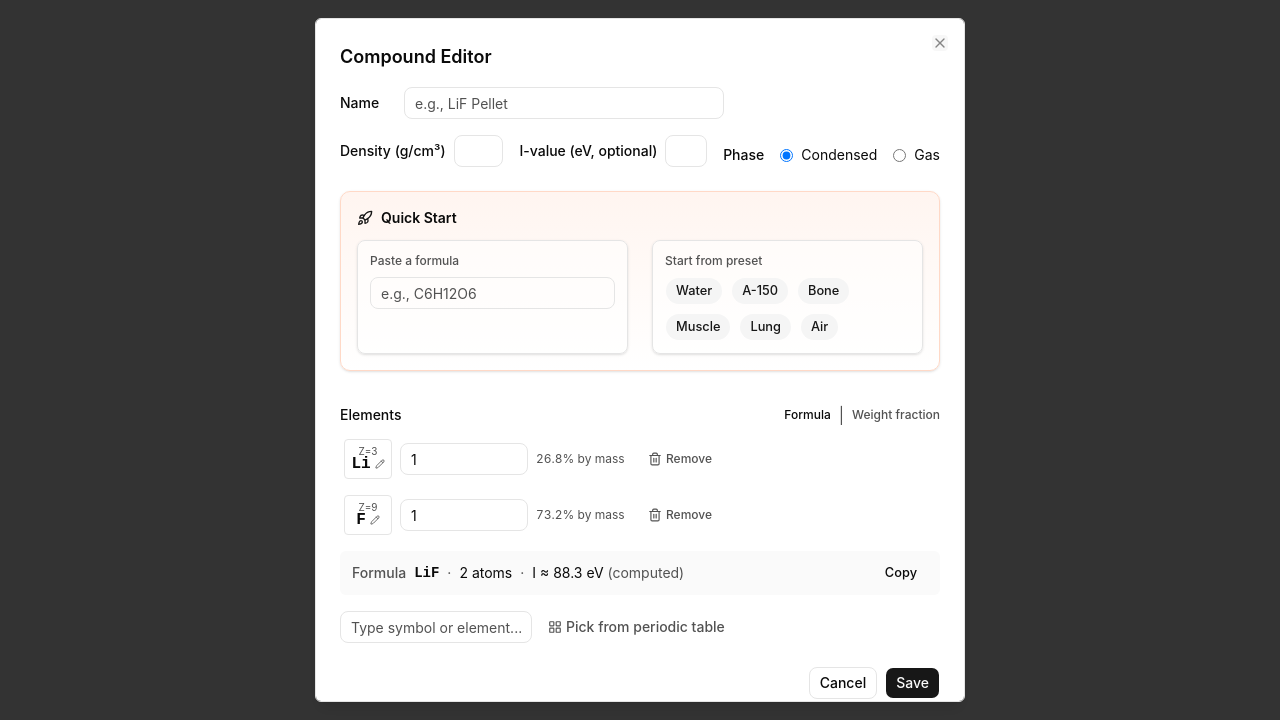
CompoundEditorModal — Save gating & derived UI › blocks Save and reveals the reason while the name is empty
Type "1.0" into the number field labelled "Density (g/cm³)" at (479, 151), box x1=454 y1=135 x2=504 y2=167
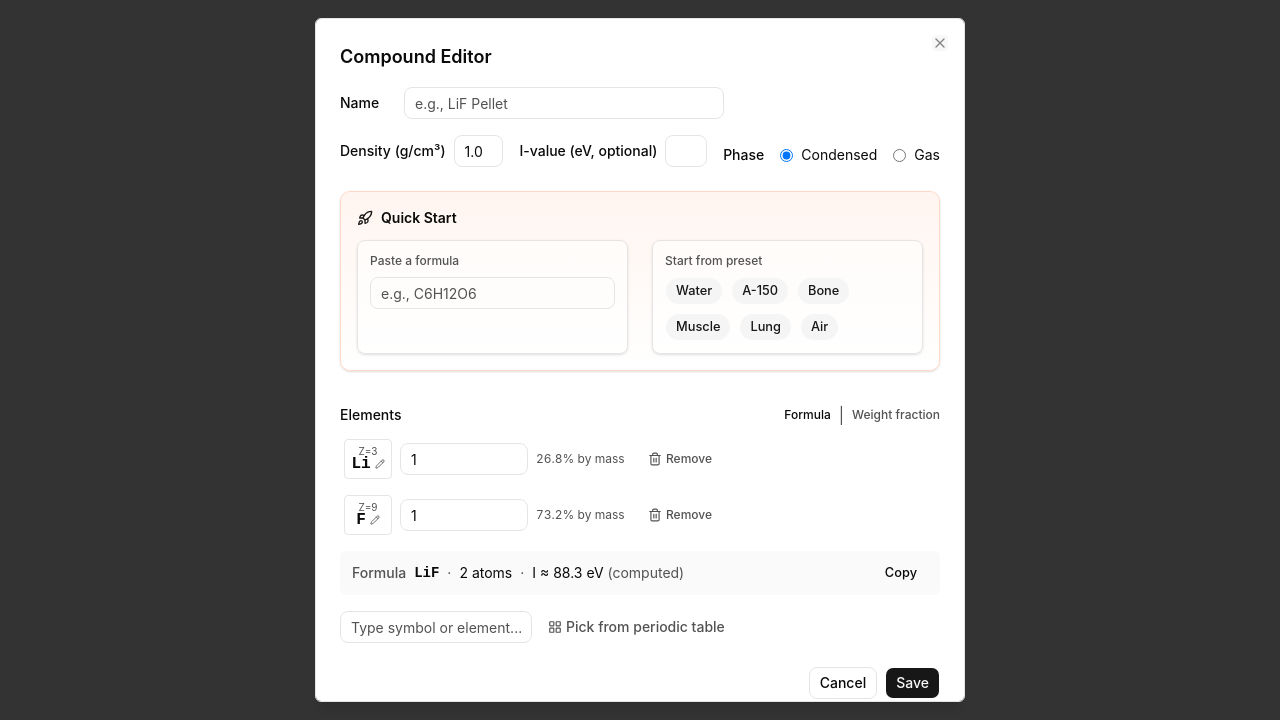
Expected: the text "name is required" is not shown
Click the button "Save" at (913, 683), box x1=885 y1=667 x2=940 y2=699
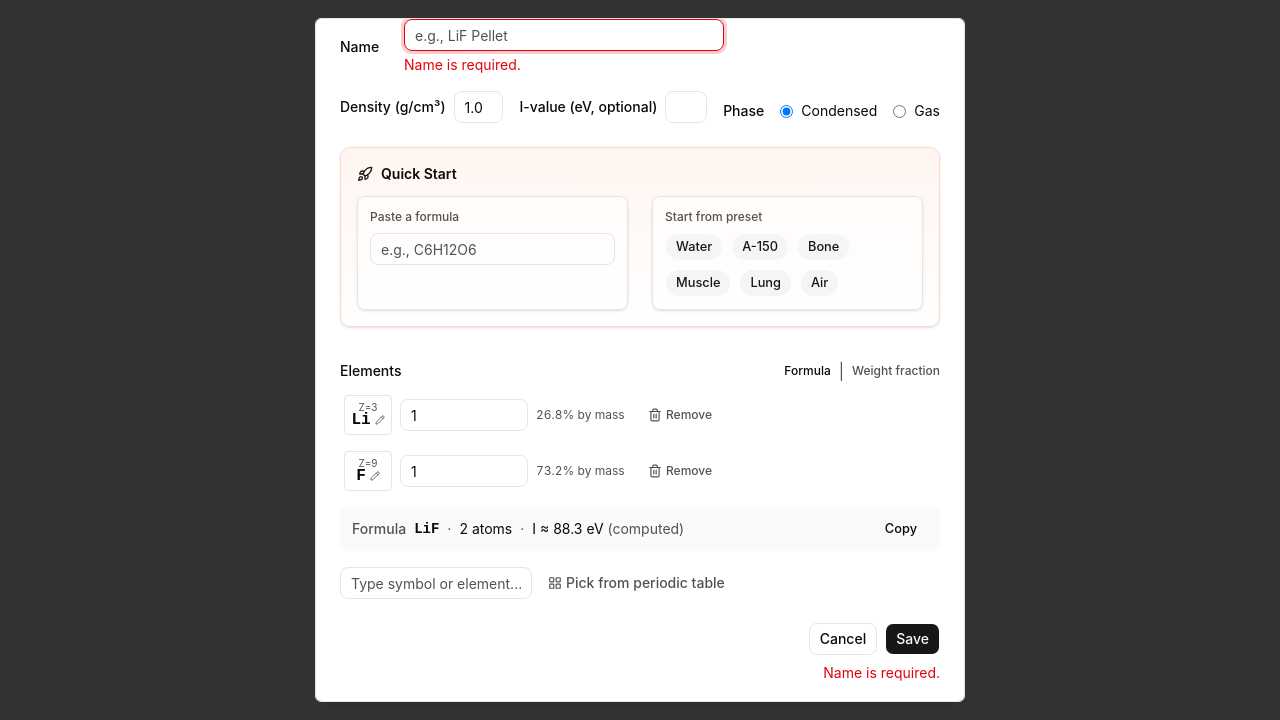
Result: the message with test id "compound-save-block-reason" shows "Name is required" at x1=823 y1=664 x2=940 y2=681
